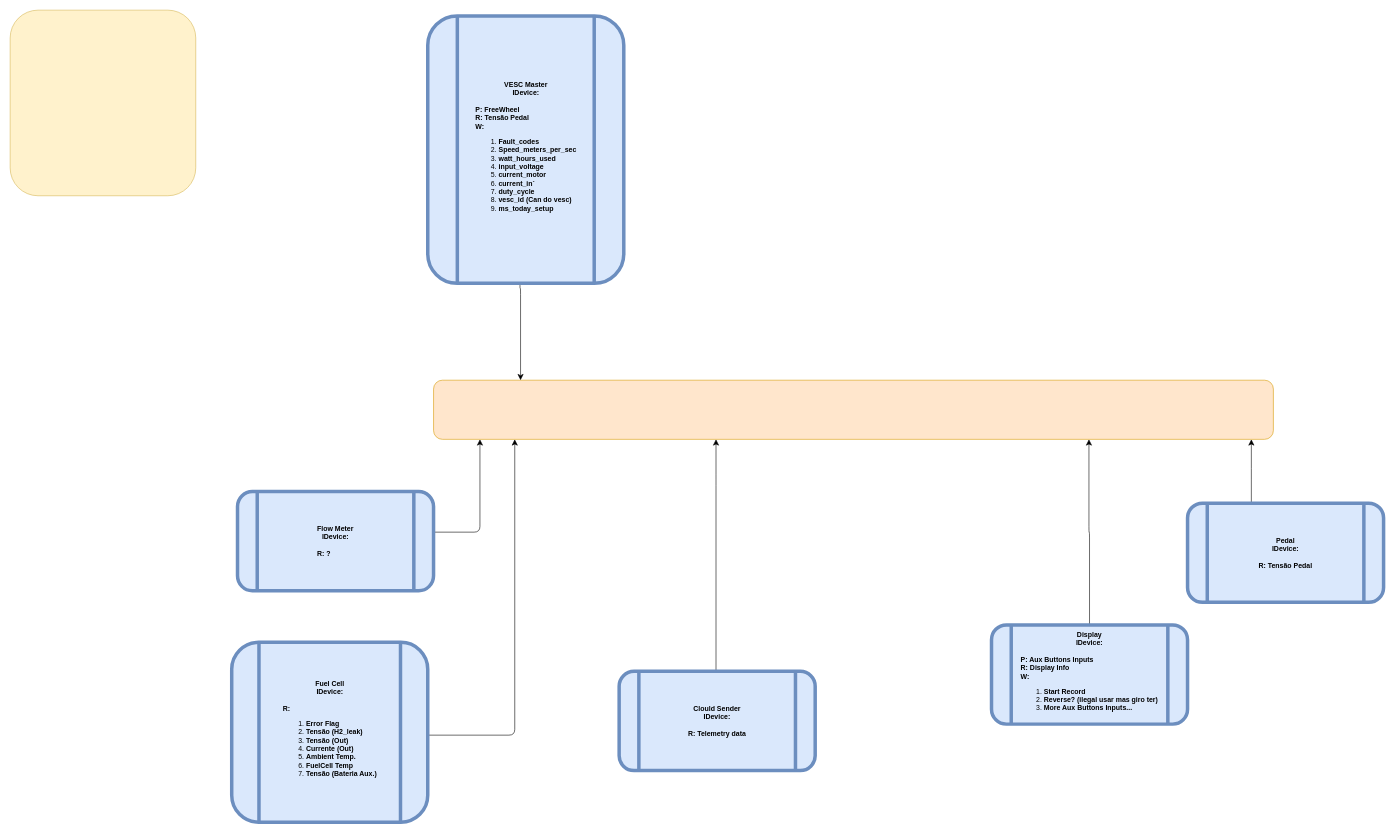
The diagram is 1395 pixels wide and 834 high, and some of its shapes have lost their labels. The shapes that lost their labels are listed below. From the top down, each one's centre as x and y in pixels, then its label:
At (103,103): "LEGENDA : R- Reads W- Writes P- Performs".
At (853,409): "Can Line".
